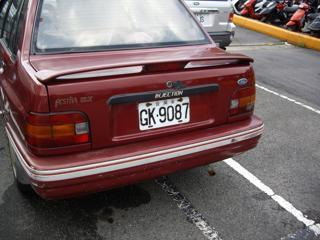plate: (137, 99, 194, 128)
